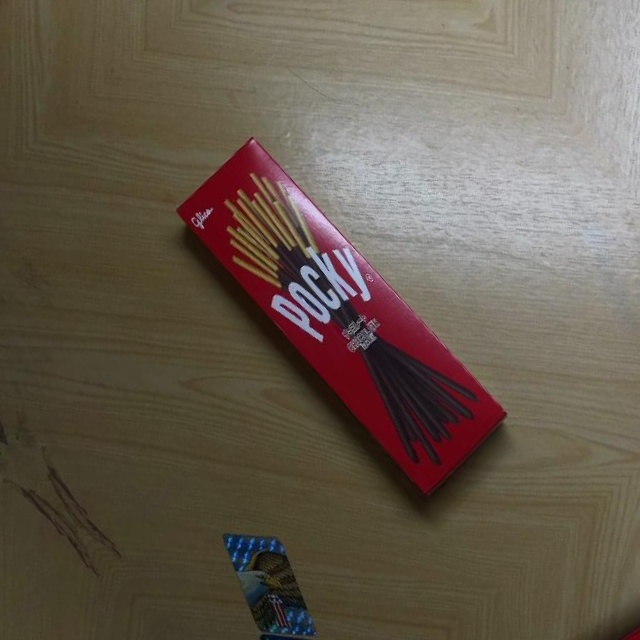Pocky: (167, 124, 515, 505)
